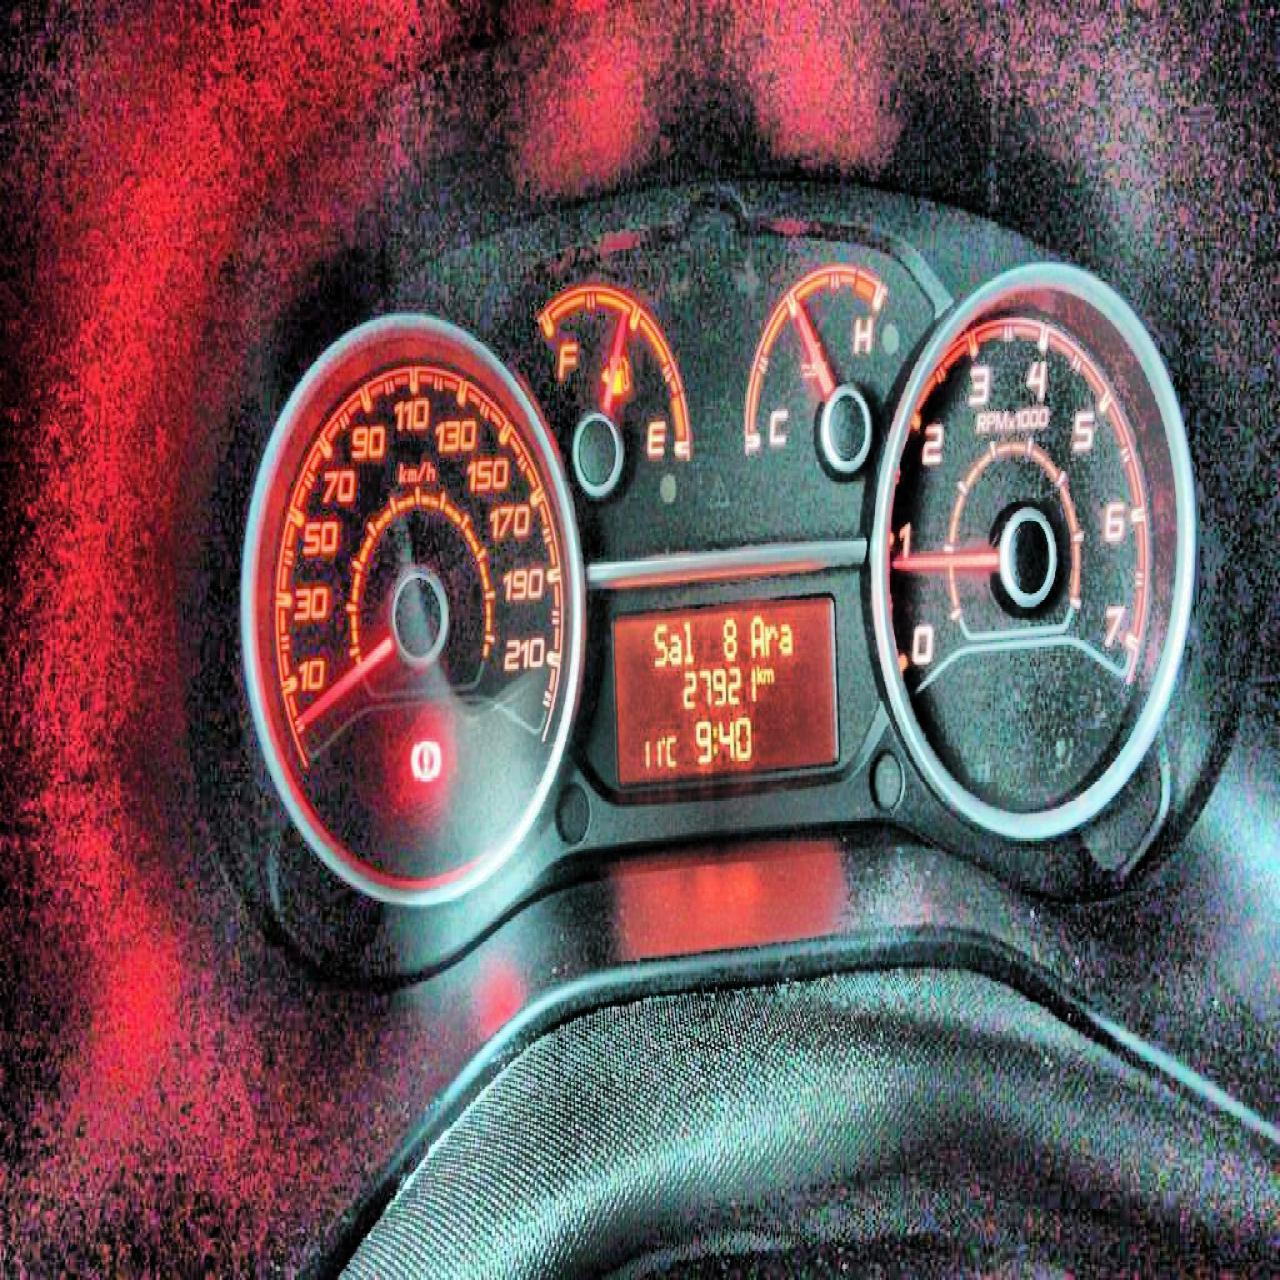0: (734, 713, 751, 760)
1: (745, 662, 755, 702), (640, 734, 651, 769), (653, 735, 661, 769)
2: (680, 667, 696, 709), (727, 665, 742, 704)
4: (716, 719, 734, 760)
7: (697, 667, 710, 707)
8: (722, 613, 737, 660)
9: (692, 715, 712, 764), (712, 665, 726, 704)
X: (651, 618, 668, 667), (748, 611, 763, 658), (681, 615, 694, 665), (667, 629, 681, 667), (777, 620, 792, 653), (763, 620, 777, 655), (665, 734, 678, 769), (763, 665, 774, 685), (755, 660, 763, 685), (712, 724, 716, 756)
odometer: (606, 588, 844, 794)
